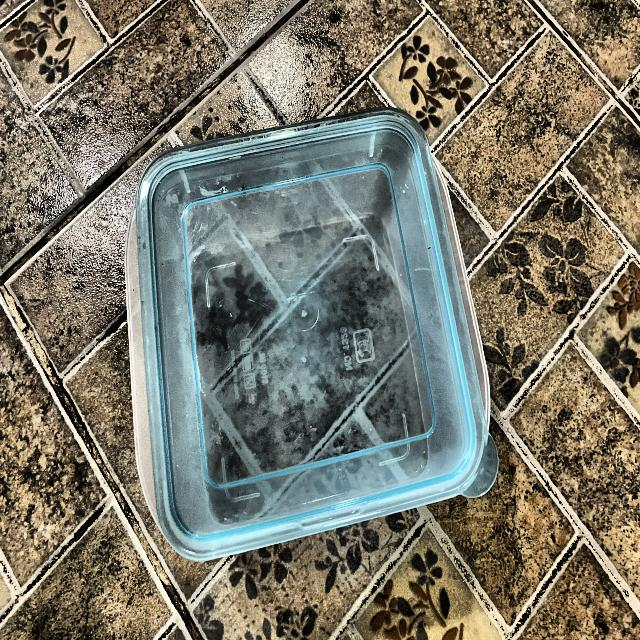plastic container: (107, 103, 480, 546)
